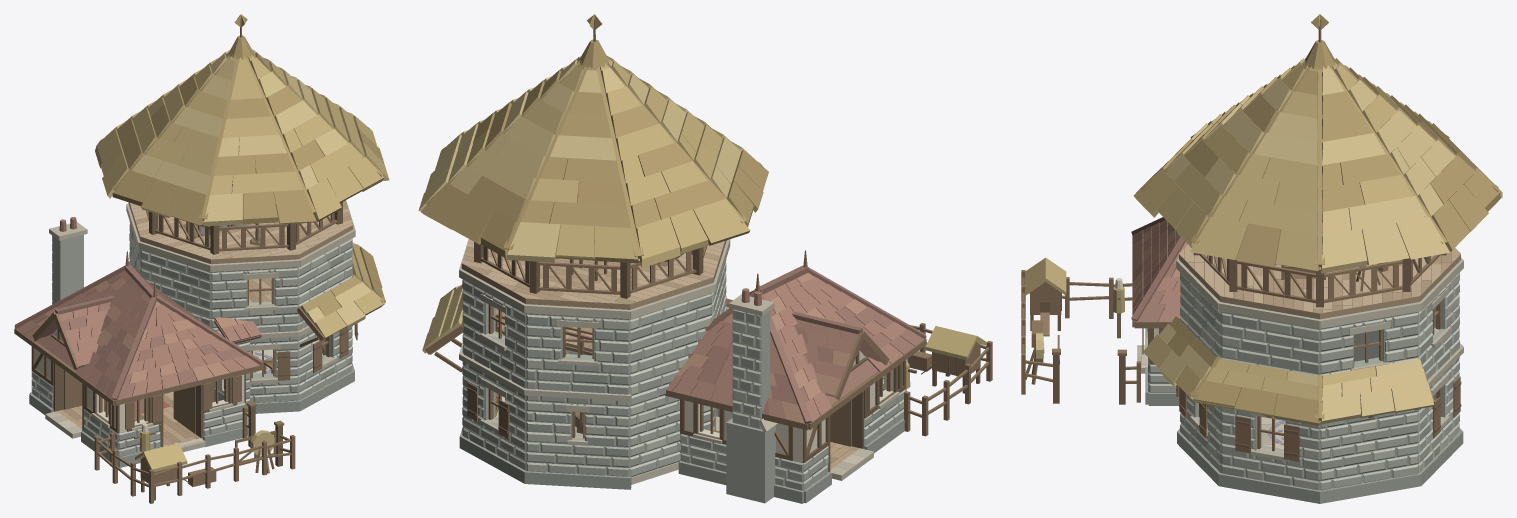
Rendered from mage.glb.
3 views of the same model, side by side, from view 1: azimuth 30°, elevation 25°; view 2: azimuth 150°, elevation 25°; view 3: azimuth 270°, elevation 25° (orthographic). The views are drawn at different scales.
Parts seen in each view (by area): view 1: Mage_RoofThatch, Mage_Roof, Mage_Shell, Mage_UpperShell, Mage_Yard, Mage_UpperFloorObservatoryTiles, Mage_UpperGallery, Mage_Door, Mage_UpperFloorObservatory, Mage_FloorGroundTilesBoards, Mage_FloorGroundTilesFlags, Mage_FloorGround (+1 smaller); view 2: Mage_RoofThatch, Mage_Roof, Mage_Shell, Mage_UpperShell, Mage_UpperFloorObservatoryTiles, Mage_Yard, Mage_UpperGallery, Mage_UpperFloorObservatory, Mage_Door, Mage_FloorGround, Mage_FloorGroundTilesFlags; view 3: Mage_RoofThatch, Mage_Shell, Mage_UpperShell, Mage_Roof, Mage_Yard, Mage_UpperFloorObservatoryTiles, Mage_UpperGallery, Mage_UpperFloorObservatory, Mage_FloorGroundTilesFlags.
Part boxes in pixels (box(x1,y1,x2,y2)): Mage_RoofThatch: box(95, 49, 389, 339); Mage_Roof: box(14, 14, 384, 405); Mage_Shell: box(29, 323, 358, 467); Mage_UpperShell: box(126, 200, 355, 332); Mage_Yard: box(94, 401, 295, 503); Mage_UpperFloorObservatoryTiles: box(130, 200, 353, 259); Mage_UpperGallery: box(146, 202, 342, 254); Mage_Door: box(64, 370, 195, 433); Mage_UpperFloorObservatory: box(128, 202, 353, 264); Mage_FloorGroundTilesBoards: box(56, 393, 199, 446); Mage_FloorGroundTilesFlags: box(46, 340, 322, 447); Mage_FloorGround: box(45, 352, 271, 451); Mage_RoofThatch: box(418, 56, 768, 353); Mage_Roof: box(425, 14, 926, 503); Mage_Shell: box(459, 307, 906, 503); Mage_UpperShell: box(459, 239, 730, 395); Mage_UpperFloorObservatoryTiles: box(462, 239, 724, 303); Mage_Yard: box(904, 323, 992, 436); Mage_UpperGallery: box(474, 242, 707, 298); Mage_UpperFloorObservatory: box(461, 240, 726, 309); Mage_Door: box(830, 400, 851, 446); Mage_FloorGround: box(631, 448, 873, 484); Mage_FloorGroundTilesFlags: box(496, 396, 873, 477); Mage_RoofThatch: box(1133, 58, 1502, 425); Mage_Shell: box(1142, 328, 1463, 503); Mage_UpperShell: box(1176, 257, 1463, 379); Mage_Roof: box(1131, 14, 1498, 424); Mage_Yard: box(1021, 257, 1140, 404); Mage_UpperFloorObservatoryTiles: box(1179, 244, 1460, 313); Mage_UpperGallery: box(1193, 253, 1446, 307); Mage_UpperFloorObservatory: box(1179, 254, 1460, 319); Mage_FloorGroundTilesFlags: box(1137, 345, 1285, 449).
Size of the model in its own units: 14.65 by 14.43 by 14.62.
